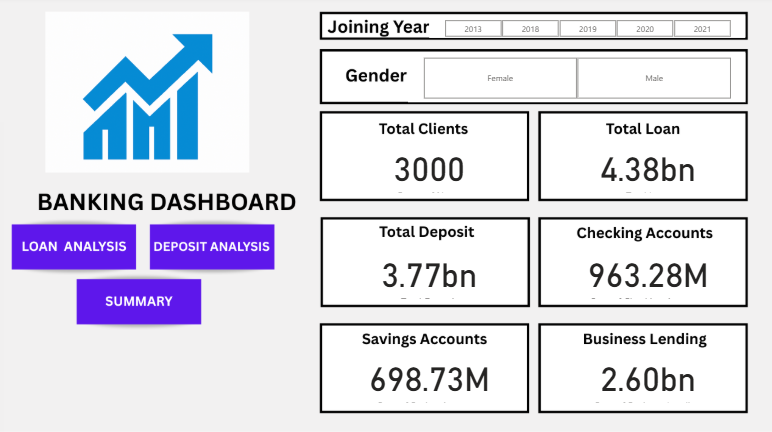

What the dashboard file says about the page in this screenshot:
{"tool":"powerbi","page":{"name":"Home","canvas":[1280,720],"ordinal":0},"visuals":[{"type":"card","fields":{"Values":["banking_case customer.Name"]},"box":[576.7,251.2,279.1,76.7],"z":0},{"type":"slicer","fields":{"Values":["banking_case customer.GenderId"]},"box":[681.4,94.2,553.5,80.2],"z":1000},{"type":"card","fields":{"Values":["banking_case customer.Total Loan"]},"box":[934.9,251.2,279.1,76.7],"z":2000},{"type":"card","fields":{"Values":["banking_case customer.Total Deposit"]},"box":[576.7,425.6,279.1,76.7],"z":3000},{"type":"card","fields":{"Values":["banking_case customer.Checking Accounts"]},"box":[934.9,425.6,279.1,76.7],"z":4000},{"type":"card","fields":{"Values":["banking_case customer.Business Lending"]},"box":[934.9,594.2,279.1,76.7],"z":5000},{"type":"card","fields":{"Values":["banking_case customer.Saving Accounts"]},"box":[576.7,594.2,279.1,76.7],"z":6000},{"type":"slicer","fields":{"Values":["banking_case customer.Year of joining"]},"box":[716.1,33.3,518.4,35.6],"z":7000},{"type":"actionButton","box":[29.5,376.9,206.4,73.1],"z":8000},{"type":"actionButton","box":[257,374.4,204.7,75.6],"z":9000},{"type":"actionButton","box":[136,464,205.8,76.7],"z":10000}]}

Visuals, with their boxes in screenshot pixels (x1, y1, x2, y2), scaled from the page's 1280x720 canvas onto the 772x432 screenshot:
card - banking_case customer.Name: x1=348 y1=151 x2=516 y2=197
slicer - banking_case customer.GenderId: x1=411 y1=57 x2=745 y2=105
card - banking_case customer.Total Loan: x1=564 y1=151 x2=732 y2=197
card - banking_case customer.Total Deposit: x1=348 y1=255 x2=516 y2=301
card - banking_case customer.Checking Accounts: x1=564 y1=255 x2=732 y2=301
card - banking_case customer.Business Lending: x1=564 y1=357 x2=732 y2=403
card - banking_case customer.Saving Accounts: x1=348 y1=357 x2=516 y2=403
slicer - banking_case customer.Year of joining: x1=432 y1=20 x2=745 y2=41
actionButton: x1=18 y1=226 x2=142 y2=270
actionButton: x1=155 y1=225 x2=278 y2=270
actionButton: x1=82 y1=278 x2=206 y2=324
